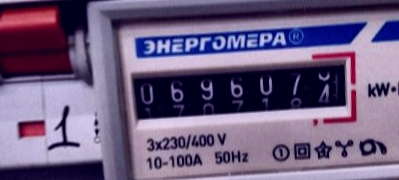0: (136, 79, 154, 104), (255, 69, 272, 95)
4: (313, 80, 331, 105)
6: (166, 77, 184, 102), (226, 72, 244, 97)
7: (285, 69, 302, 96)
9: (196, 75, 213, 100)
screen: (115, 44, 362, 133)
